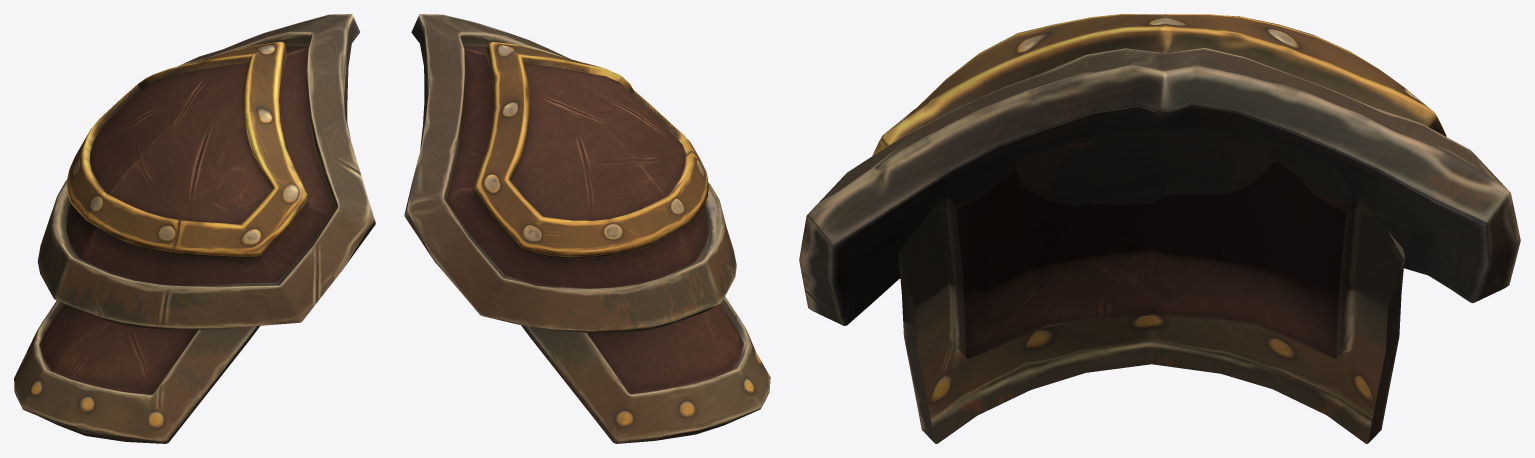
Rendered from sm_armor_dhodin_human_paldron_r.gltf.
3 renders of one model, left to right at view 1: azimuth 30°, elevation 25°; view 2: azimuth 150°, elevation 25°; view 3: azimuth 270°, elevation 25°, orthographic. The views are drawn at different scales.
Parts seen in each view (by area): view 1: sm_armor_dhodin_human_paldron_r; view 2: sm_armor_dhodin_human_paldron_r; view 3: sm_armor_dhodin_human_paldron_r.
Boxes of the visible parts, x1,y1,x2,y2 form: sm_armor_dhodin_human_paldron_r: (14,14,375,443); sm_armor_dhodin_human_paldron_r: (404,14,770,443); sm_armor_dhodin_human_paldron_r: (799,14,1520,443).
Bounding box in the file's own units: 0.3504 × 0.3187 × 0.3509.
1 material, 1 textured.
